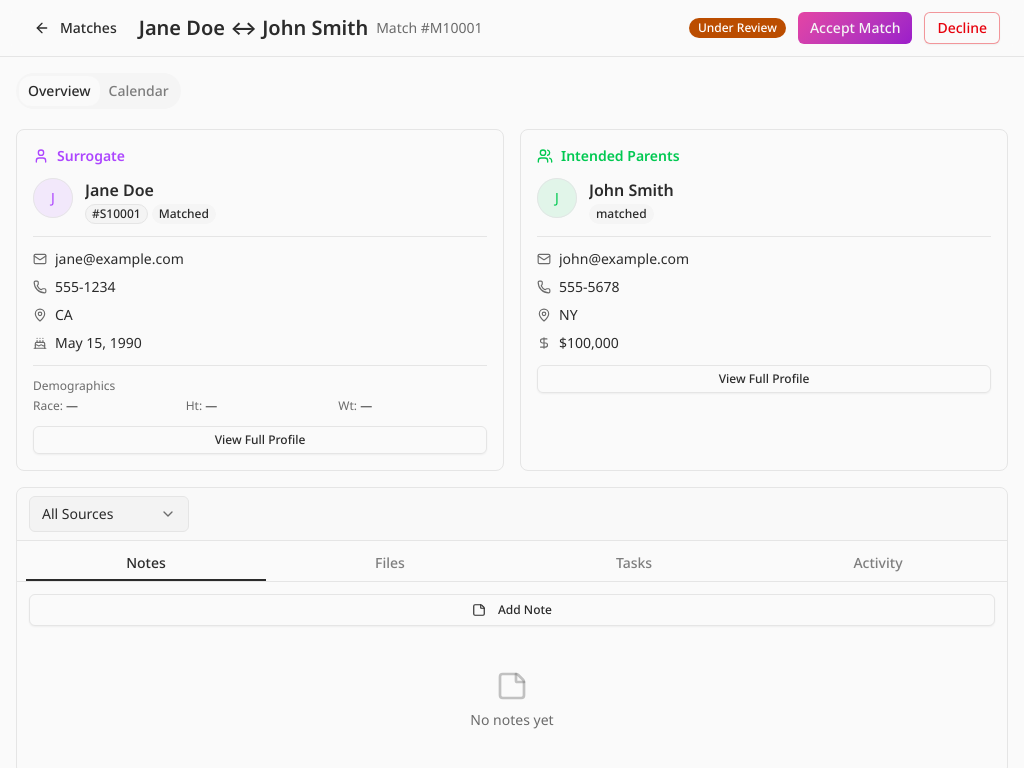
it: MatchDetailPage › renders dual-linked tasks once with a match badge
Click the tab "Tasks".
click(634, 563)  # box [514,548,754,578]
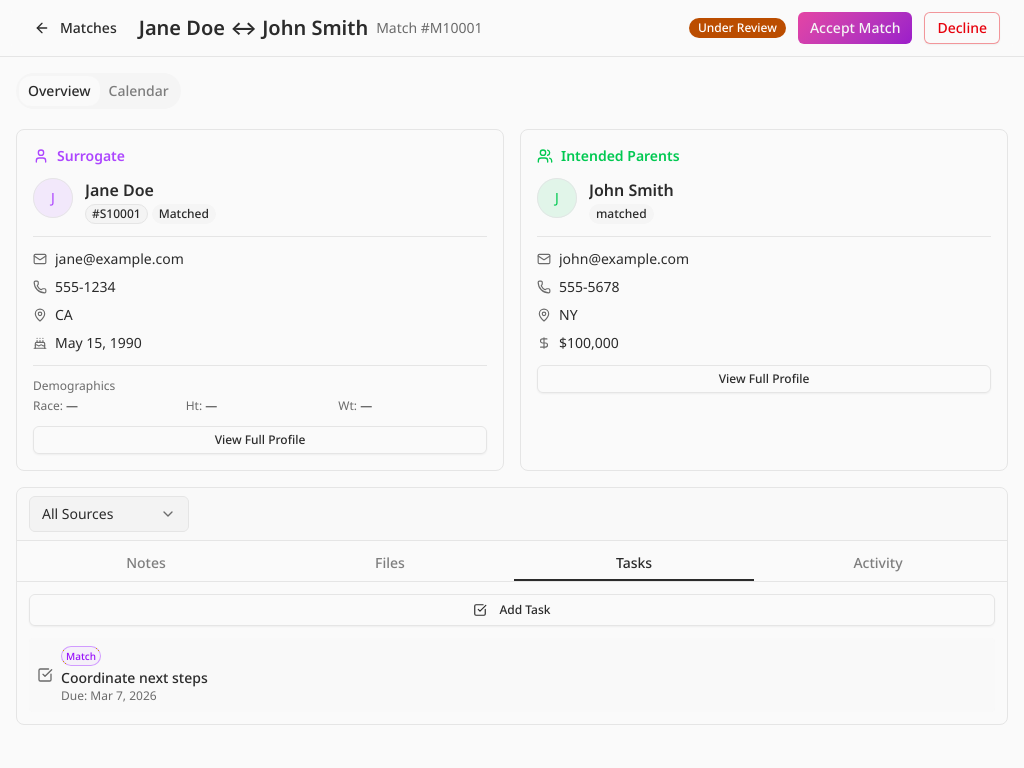
Expected: the text "Coordinate next steps" is shown once, [61,668,208,687]
Now the icon "Match" is shown, box [61,646,101,666]
